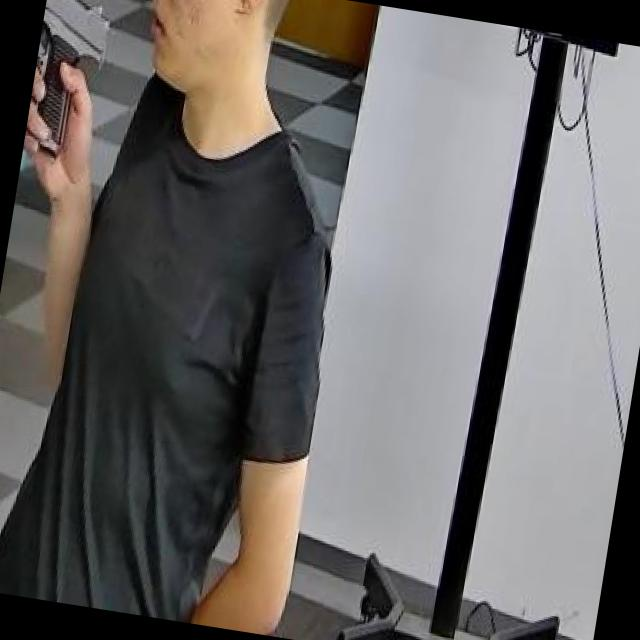Guns: (18, 0, 145, 197)
